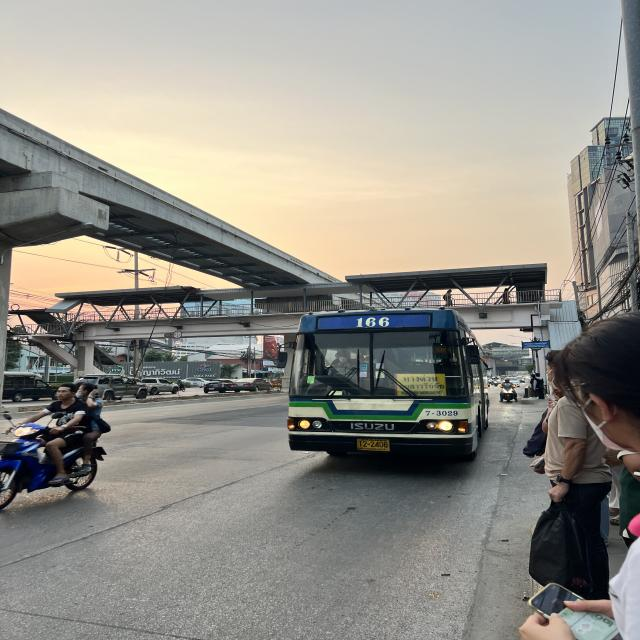BMTA-bus: (283, 310, 488, 464)
Bus Line Number: (348, 314, 397, 329)
Bus Side Number: (423, 407, 463, 418)
Destination Sign: (397, 374, 445, 396)
